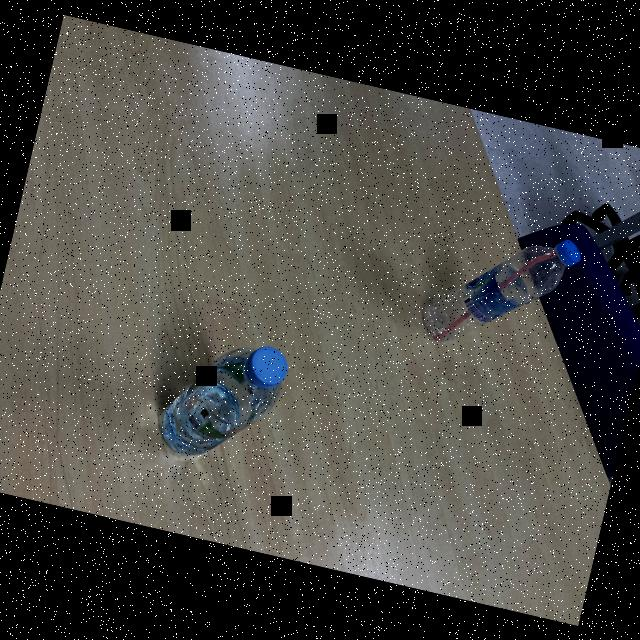plastic_bottle: (408, 206, 590, 371), (147, 322, 296, 474)
plastic_bottle_cap: (240, 342, 294, 390), (550, 236, 585, 268)
